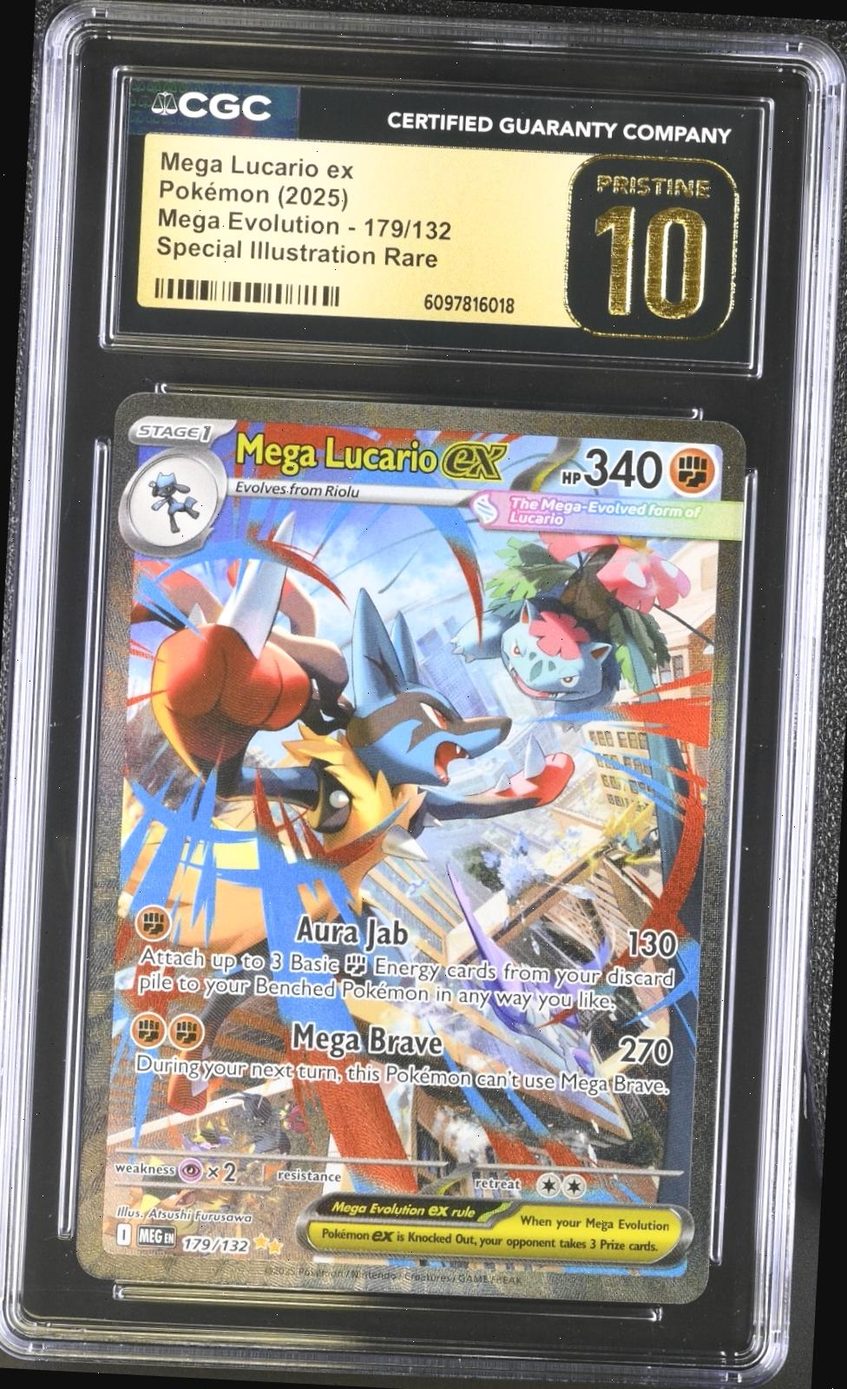card-2UtV: (75, 391, 747, 1305)
